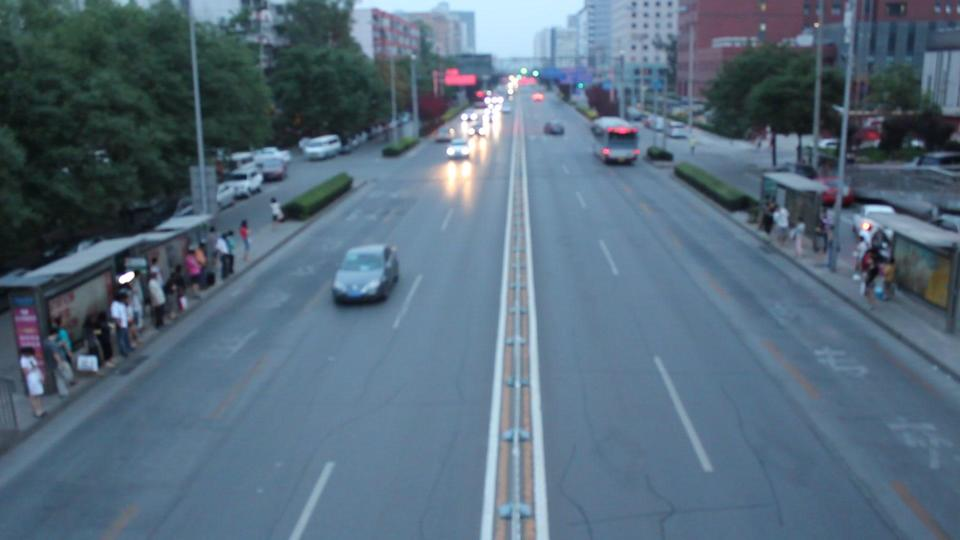bus: (590, 115, 641, 165)
car: (332, 243, 401, 305), (222, 163, 265, 193), (251, 150, 290, 181), (300, 134, 343, 161), (216, 181, 256, 207), (445, 139, 472, 159), (543, 120, 565, 136), (668, 127, 689, 138)
person: (269, 196, 286, 224)
